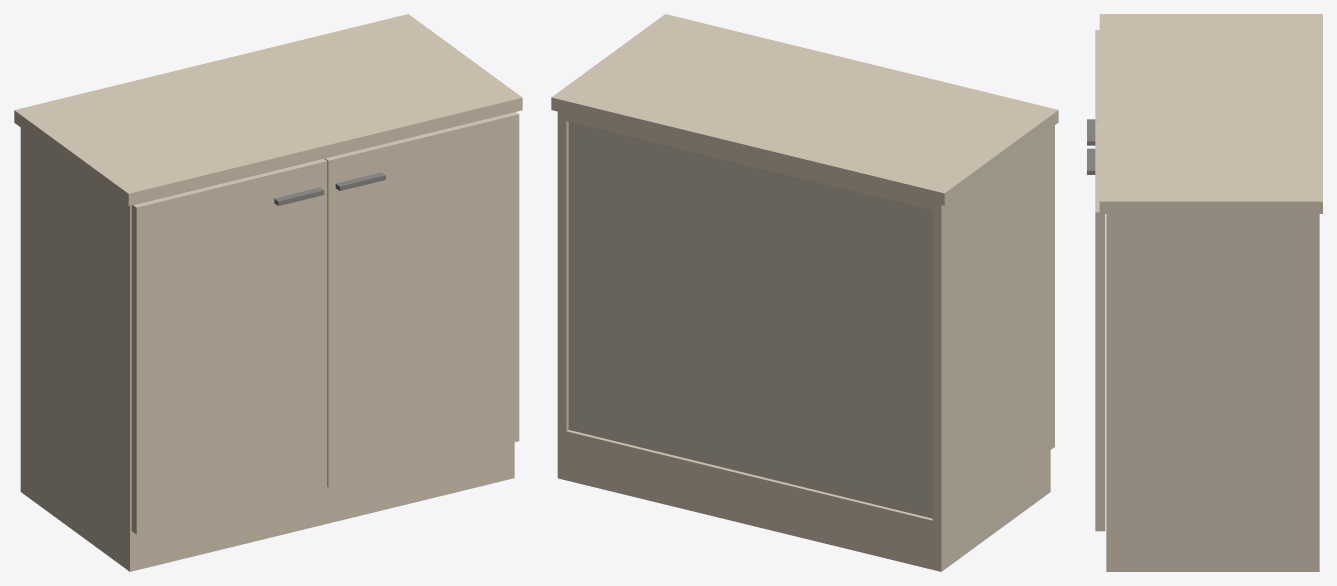
3 renders of one model, left to right at view 1: azimuth 30°, elevation 25°; view 2: azimuth 150°, elevation 25°; view 3: azimuth 270°, elevation 25°, orthographic. The views are drawn at different scales.
Visible parts, largest first — view 1: door-left, door-right, worktop, side-left, base-front, base-left; view 2: back, worktop, side-left, base-rear, base-left, bottom, side-right, top-panel, door-left; view 3: side-right, worktop, base-right, door-right, door-left.
Part boxes in pixels (x1,y1,x2,y2): door-left: (131,159,327,534); door-right: (324,112,519,487); worktop: (14,14,522,206); side-left: (20,128,131,531); base-front: (138,444,505,569); base-left: (20,452,138,571); back: (568,122,932,518); worktop: (551,14,1058,205); side-left: (932,128,1050,531); base-rear: (566,440,932,569); base-left: (932,452,1050,571); bottom: (566,430,932,529); side-right: (557,111,568,439); top-panel: (566,113,932,210); door-left: (1050,125,1054,449); side-right: (1106,214,1319,532); worktop: (1099,14,1322,213); base-right: (1106,532,1319,571); door-right: (1095,121,1105,531); door-left: (1095,30,1099,121).
Bounding box in the file's own units: 0.82 × 0.759 × 0.4355.
